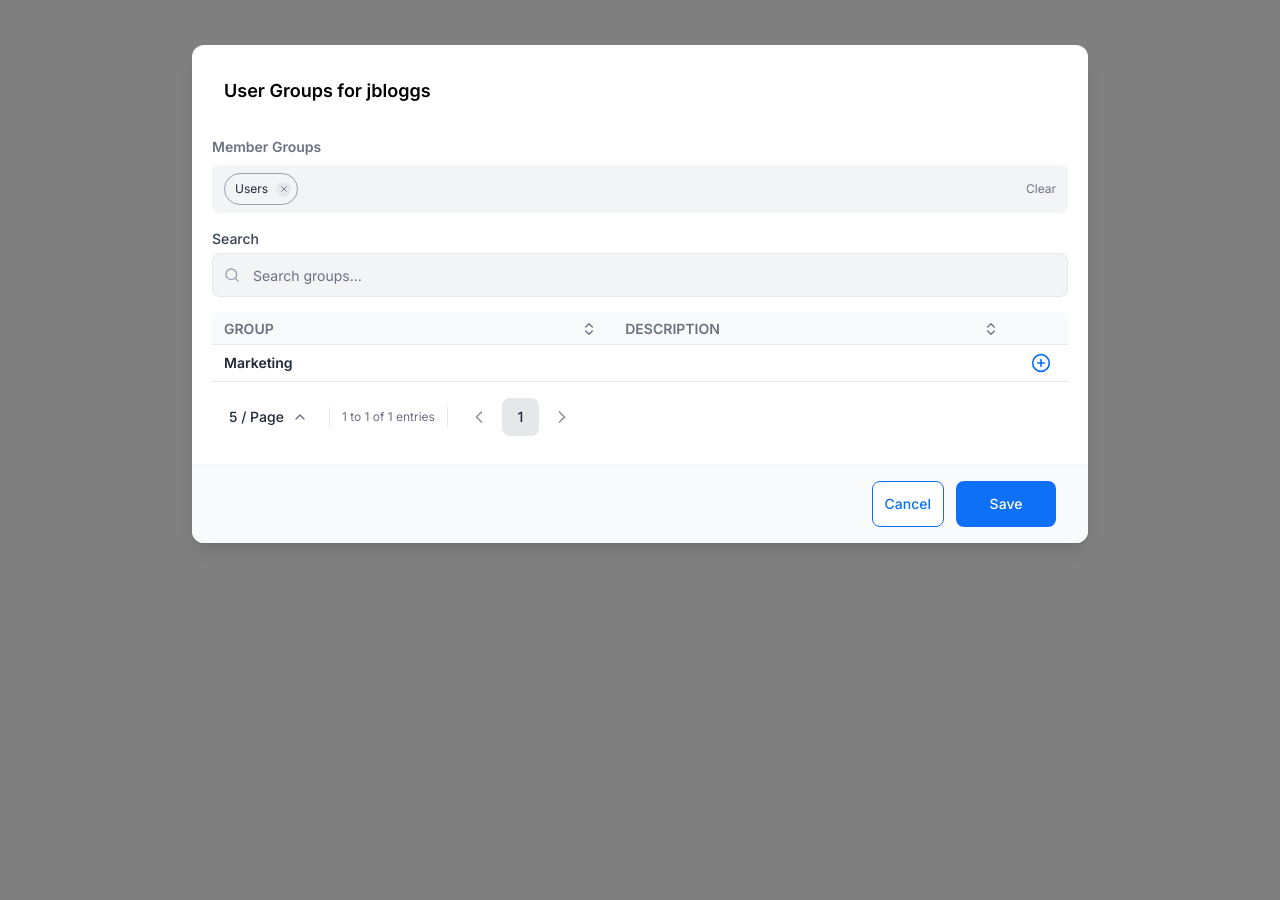
Scenario: UserGroupsModal › adding a searched group moves it into the assigned list
The image size is (1280, 900).
Expected: the text "Users" is shown, left=235, top=181, right=268, bottom=196
Expected: the text "Marketing" is shown, left=224, top=353, right=293, bottom=373
Step 1. Click the button named "add" → (1041, 363), box left=1031, top=353, right=1051, bottom=373
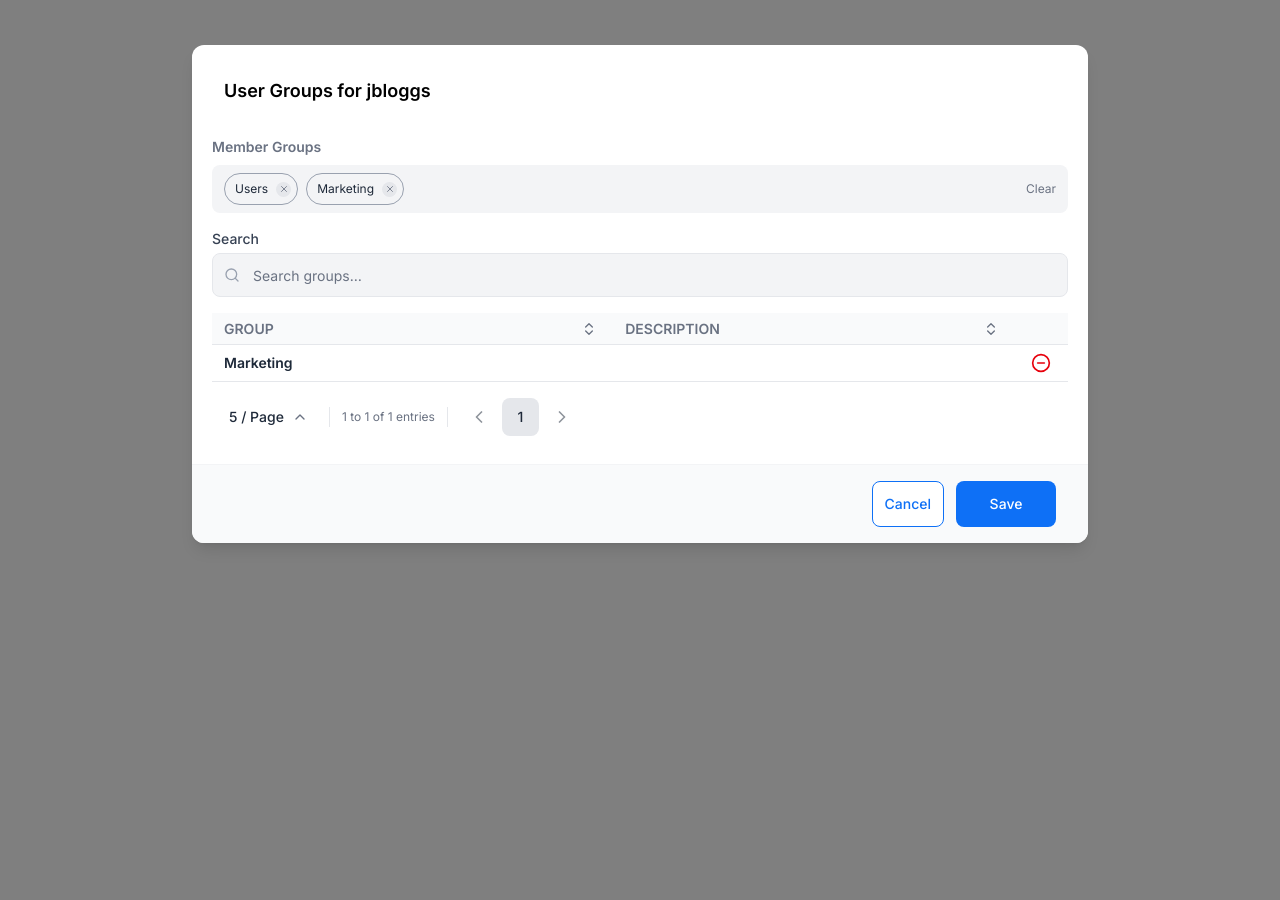
Expected: the button named "Remove Marketing" is shown, left=382, top=182, right=397, bottom=196
Expected: the text "Marketing" is shown 2 times, left=313, top=180, right=378, bottom=198; left=224, top=353, right=293, bottom=373
